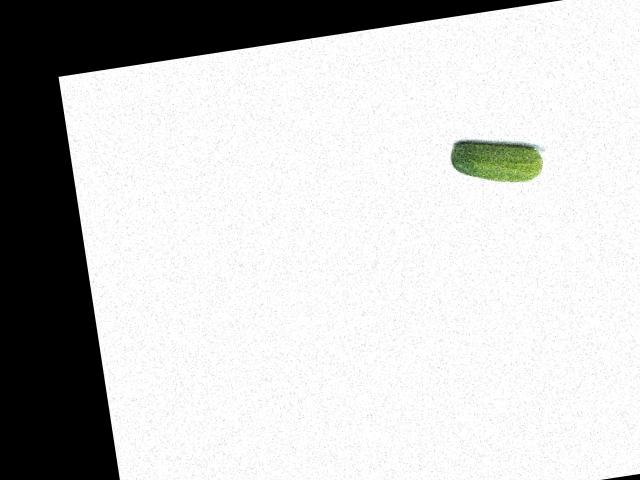cucumber: (448, 130, 544, 191)
